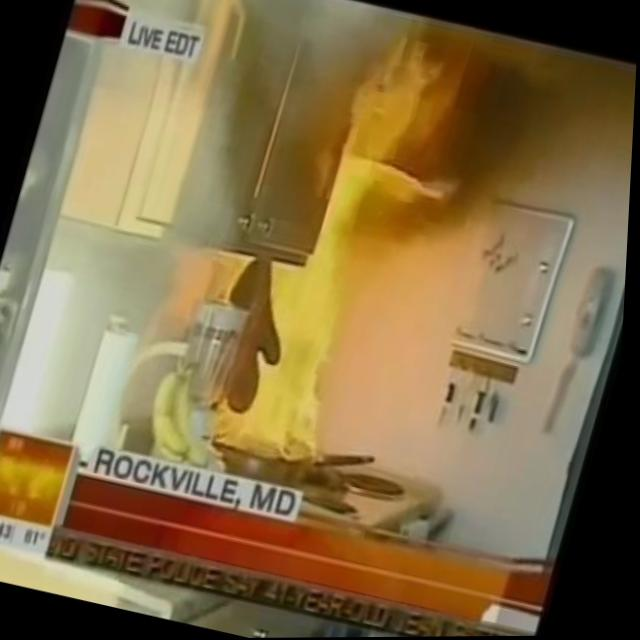fire: (198, 130, 436, 483)
